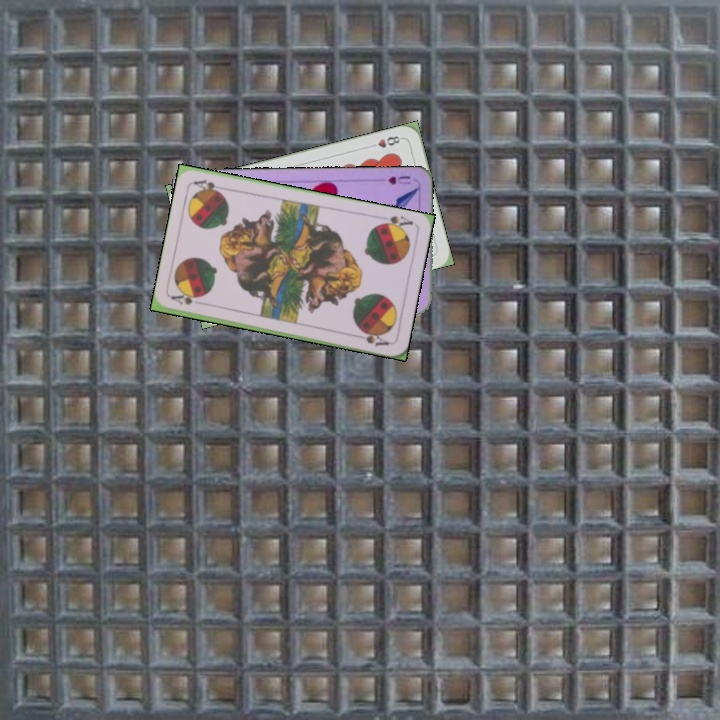H8: (365, 132, 405, 150)
HU: (384, 172, 413, 187)
SA: (375, 212, 416, 232), (168, 291, 199, 307)
